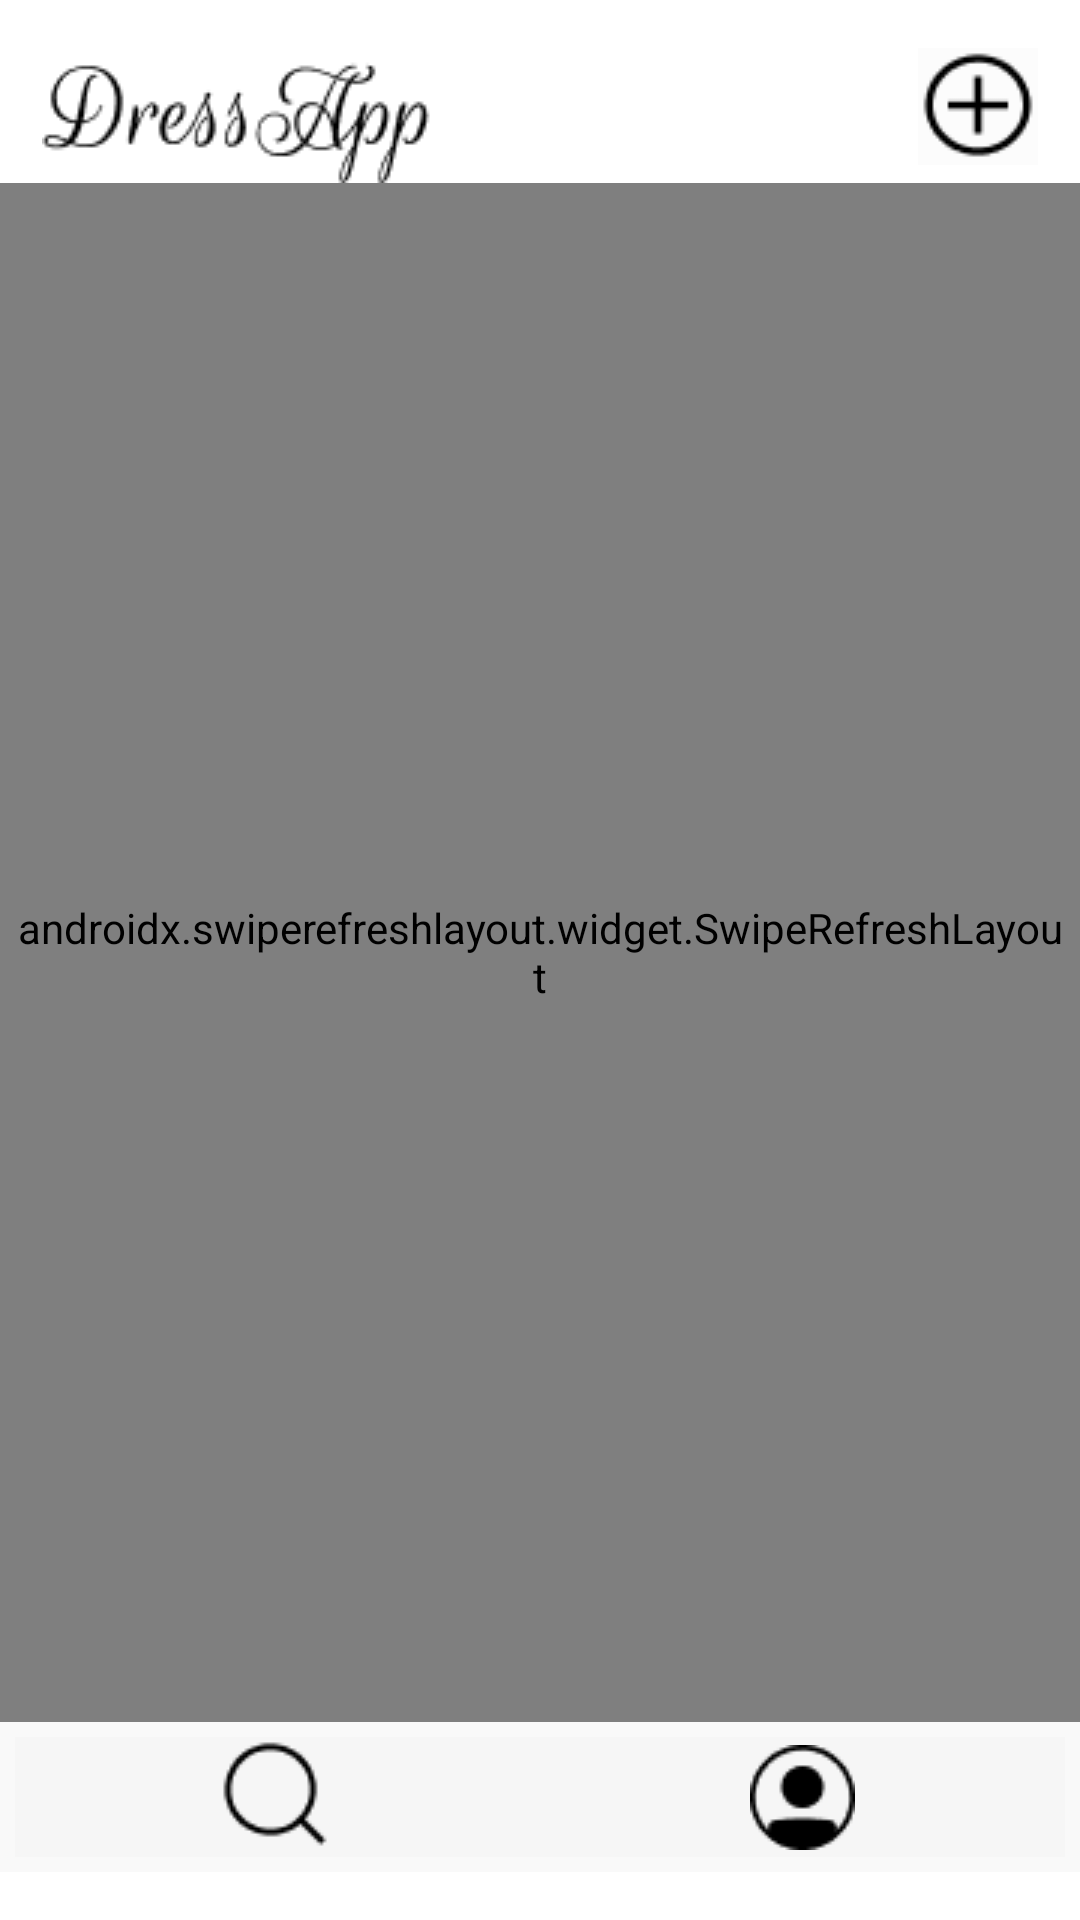

Icon bounding boxes for this 1080*1920 phone screenshot, format (x1, y1, x2, y2):
add product: (923, 53, 1033, 157)
profile: (750, 1745, 855, 1850)
search: (223, 1742, 327, 1846)
